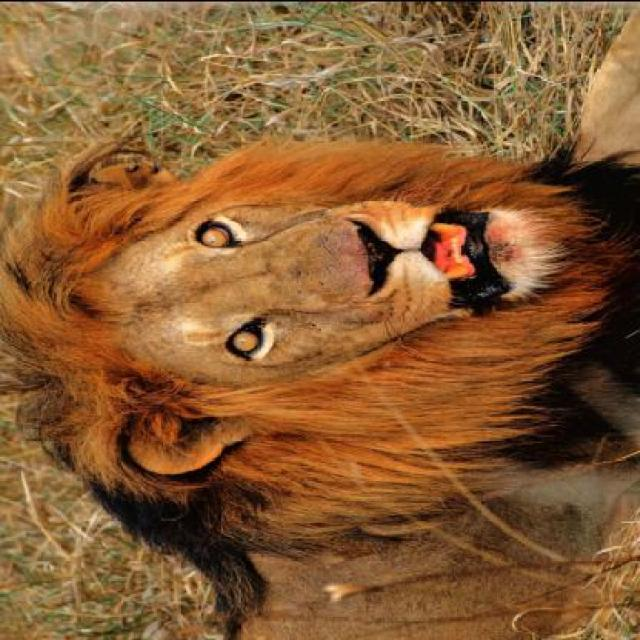Lion: (6, 83, 639, 639)
